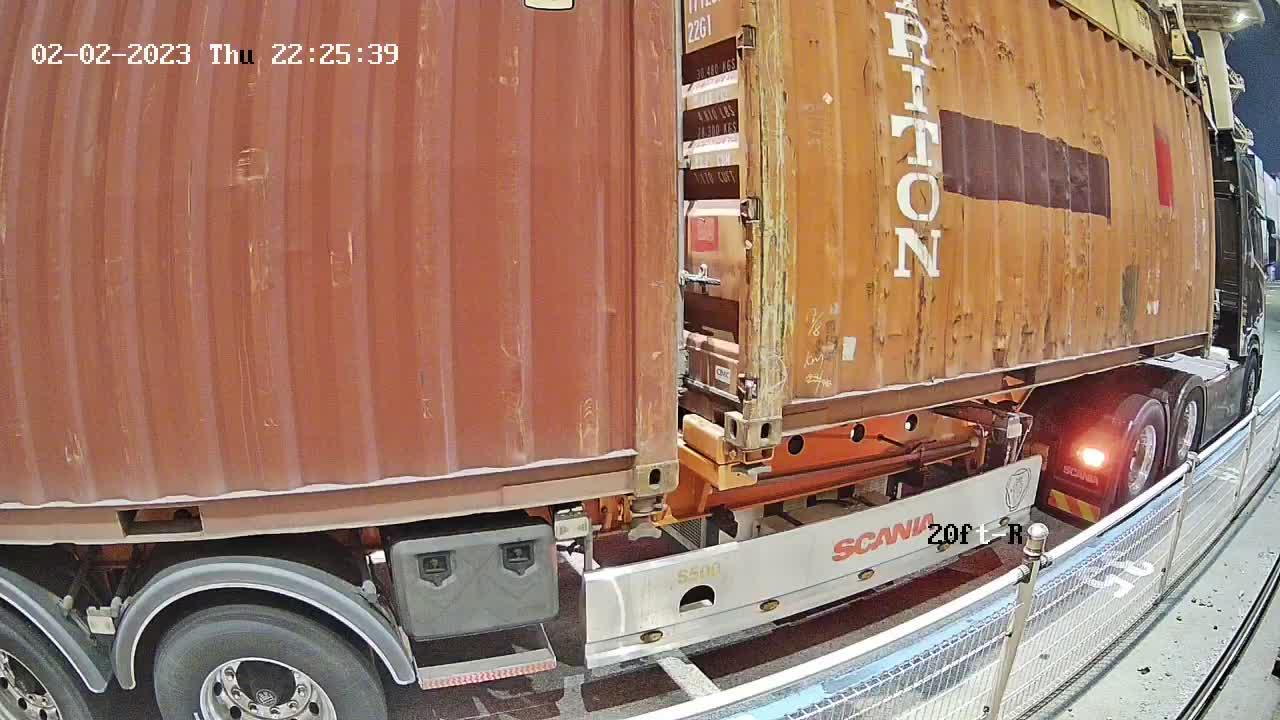Cone: (623, 491, 669, 543), (727, 445, 779, 484)
Hole_L: (745, 366, 821, 446)
Hole_R: (590, 419, 678, 496), (693, 358, 749, 449)
Tire: (1120, 404, 1168, 512), (1171, 387, 1205, 477)
